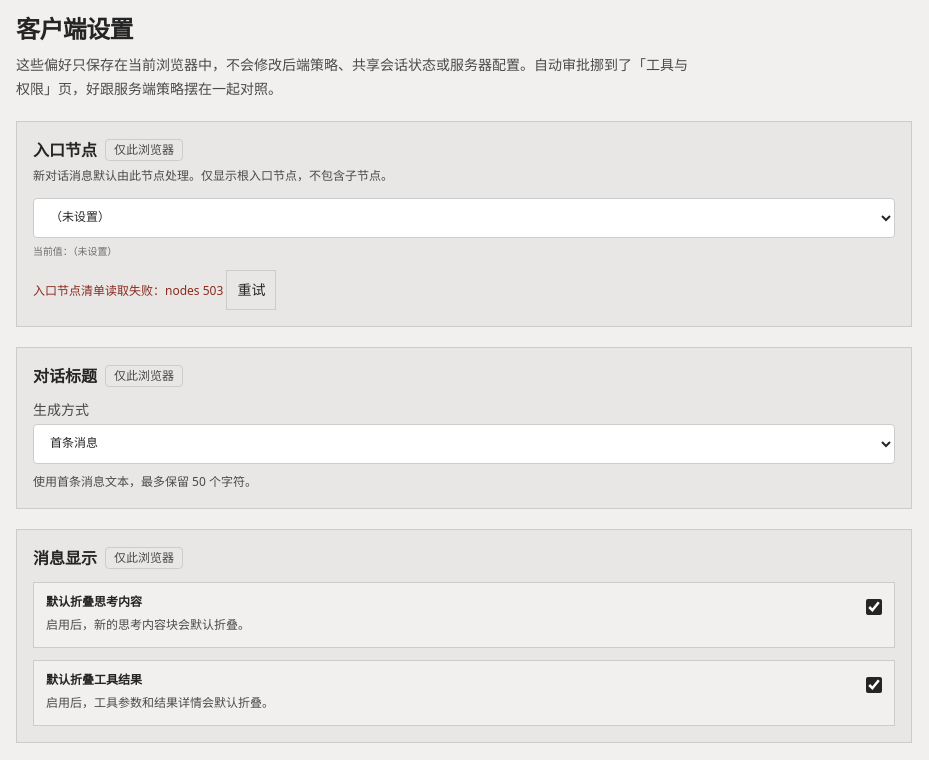
it: 客户端设置页的入口节点 › 节点表读不到时说出来，不替人挑入口；重试读到了挑后端配的默认入口
Expected: the message shows "入口节点清单读取失败：nodes 503", [33,270,276,310]
Click the button "重试": coordinates (251, 290) [226,270,276,310]
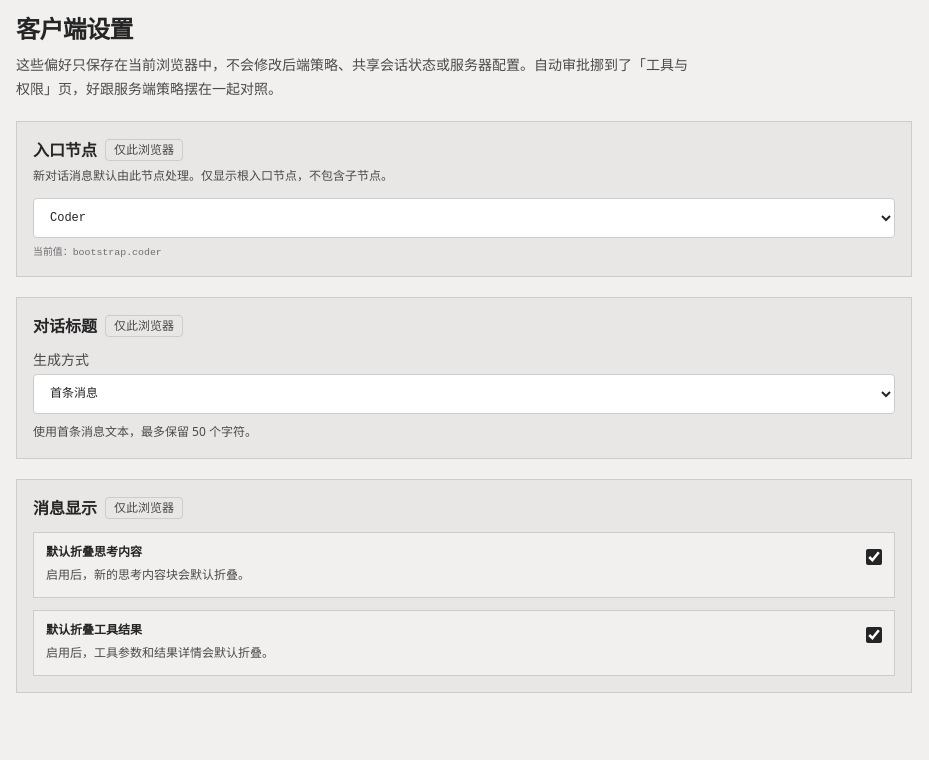
Now the message "入口节点清单读取失败：nodes 503 重试" is gone
Now the dropdown named "入口节点" shows "Coder", box [33,198,895,238]
